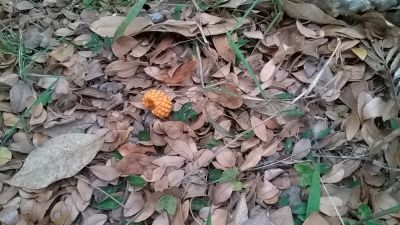eggs: (141, 88, 173, 118)
